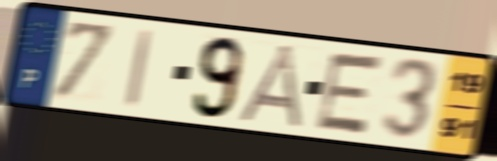3: (379, 54, 441, 144)
7: (55, 17, 120, 103)
9: (189, 33, 250, 122)
A: (234, 42, 309, 131)
E: (311, 49, 388, 138)
I: (122, 26, 157, 112)
